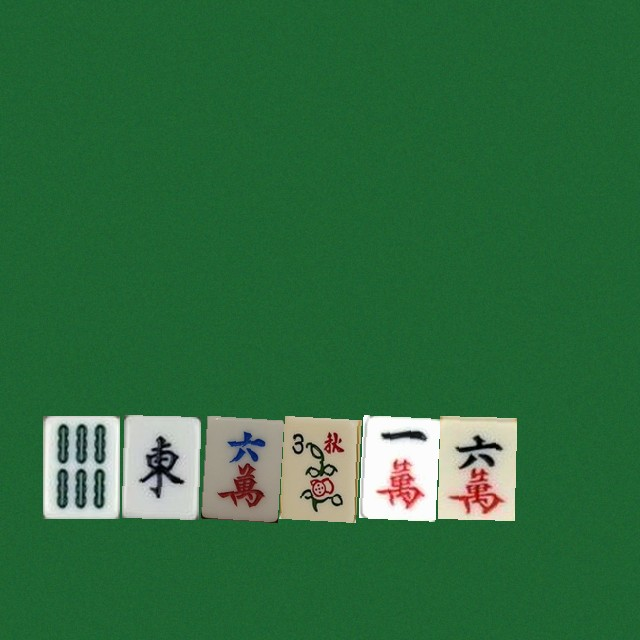tile: (42, 415, 119, 518), (121, 415, 198, 518), (200, 415, 277, 518), (279, 415, 356, 518), (358, 415, 435, 518), (437, 415, 514, 518)
